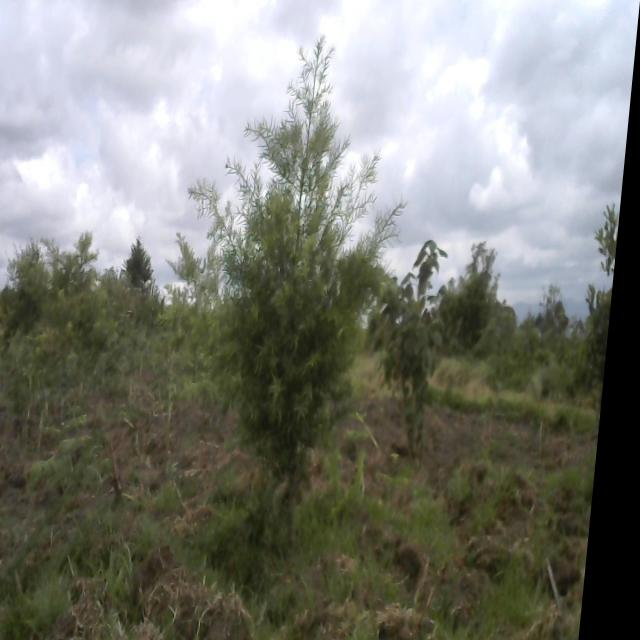Podocarpus falcatus: (171, 32, 426, 464)
cedrus: (122, 229, 169, 303)
other: (368, 240, 458, 458)
